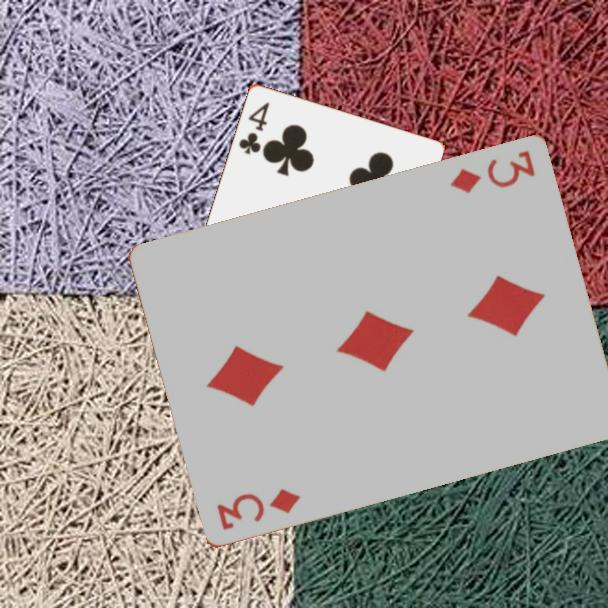c04: (235, 98, 272, 157)
d03: (446, 147, 538, 197), (212, 485, 303, 534)
